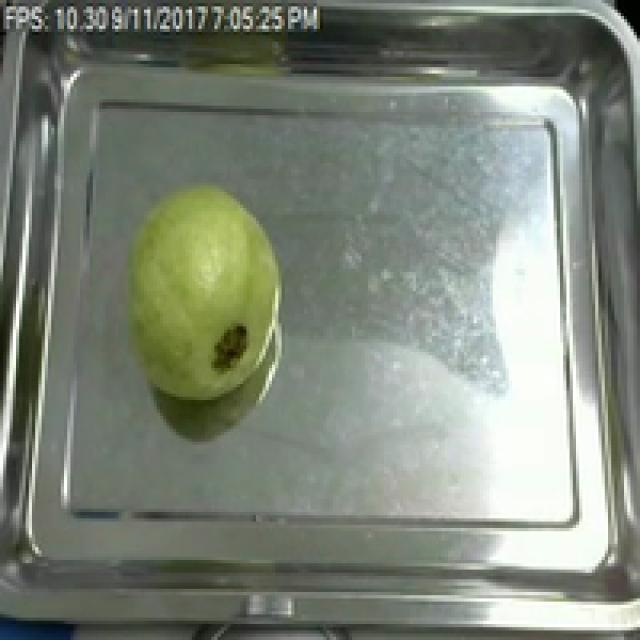Fruit: (112, 172, 294, 410)
